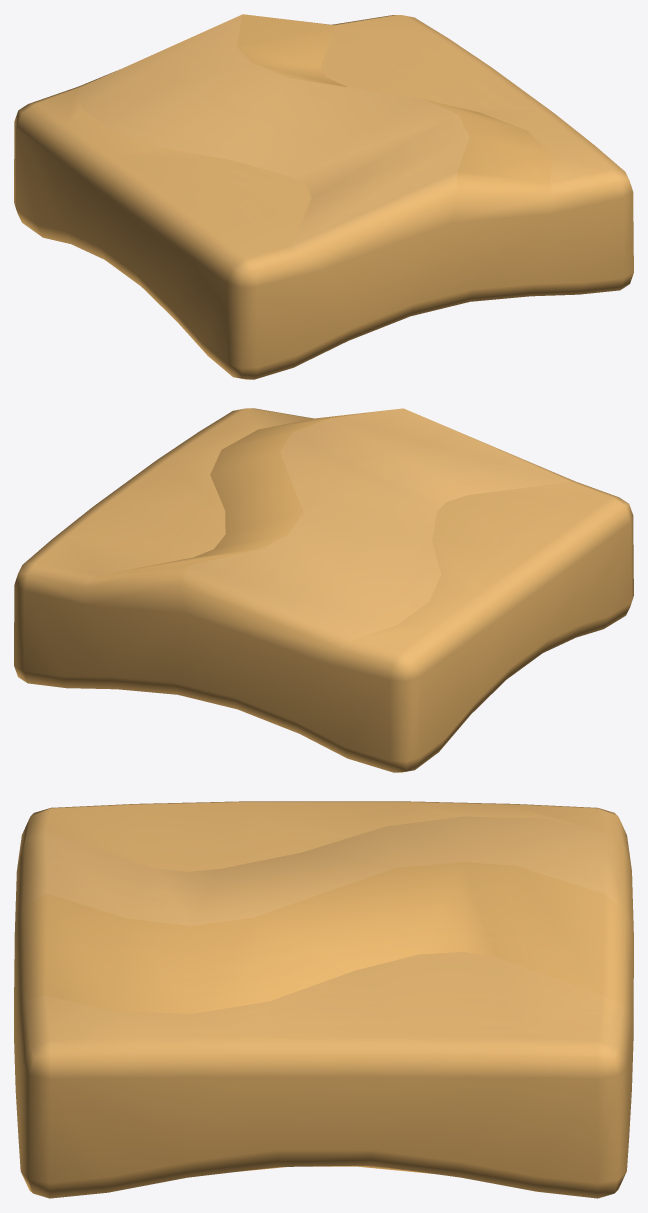
Rendered from deco_desert_sand_top.fbx.
3 views of the same model, one above another, from view 1: azimuth 30°, elevation 25°; view 2: azimuth 150°, elevation 25°; view 3: azimuth 270°, elevation 25° (orthographic). The views are drawn at different scales.
Visible parts, largest first — view 1: deco_desert_sand_top_LOD0; view 2: deco_desert_sand_top_LOD0; view 3: deco_desert_sand_top_LOD0.
Boxes of the visible parts, left/top/right/bottom form: deco_desert_sand_top_LOD0: left=14, top=14, right=633, bottom=379; deco_desert_sand_top_LOD0: left=14, top=408, right=633, bottom=772; deco_desert_sand_top_LOD0: left=14, top=801, right=633, bottom=1198.
Size of what is drawn, in the model's own units: 111 by 41.48 by 111.
